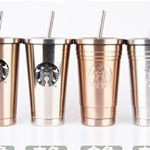cups: (72, 34, 122, 130), (22, 32, 69, 130), (124, 35, 150, 129), (1, 35, 22, 128)
